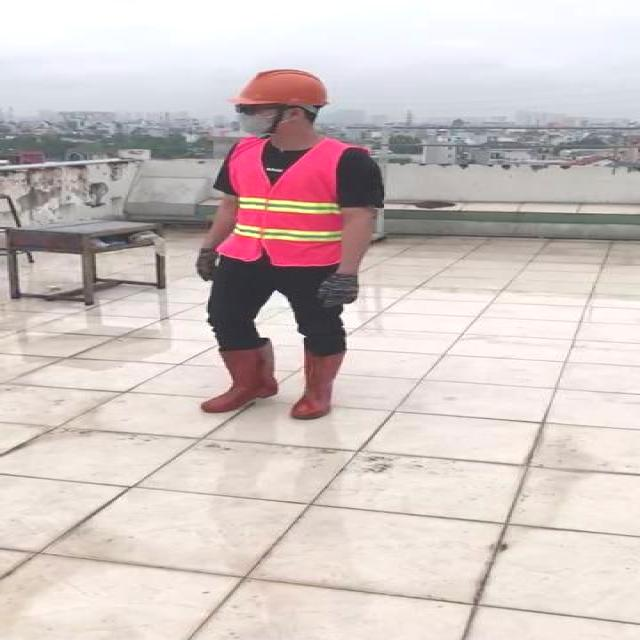boots: (197, 339, 279, 413), (290, 349, 345, 418)
face_mask: (231, 100, 274, 138)
glasses: (230, 102, 270, 119)
hand_glove: (318, 274, 361, 306), (196, 249, 220, 280)
head_helmet: (236, 69, 332, 107)
person: (168, 55, 392, 421)
vest: (220, 138, 352, 265)
